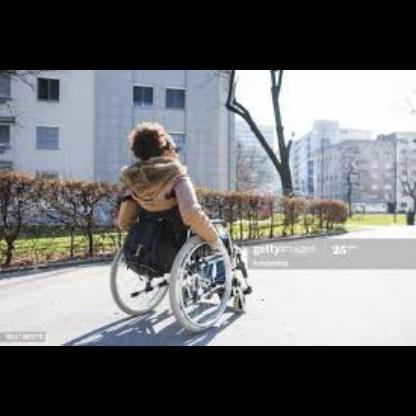wheelchair: (109, 121, 253, 334)
